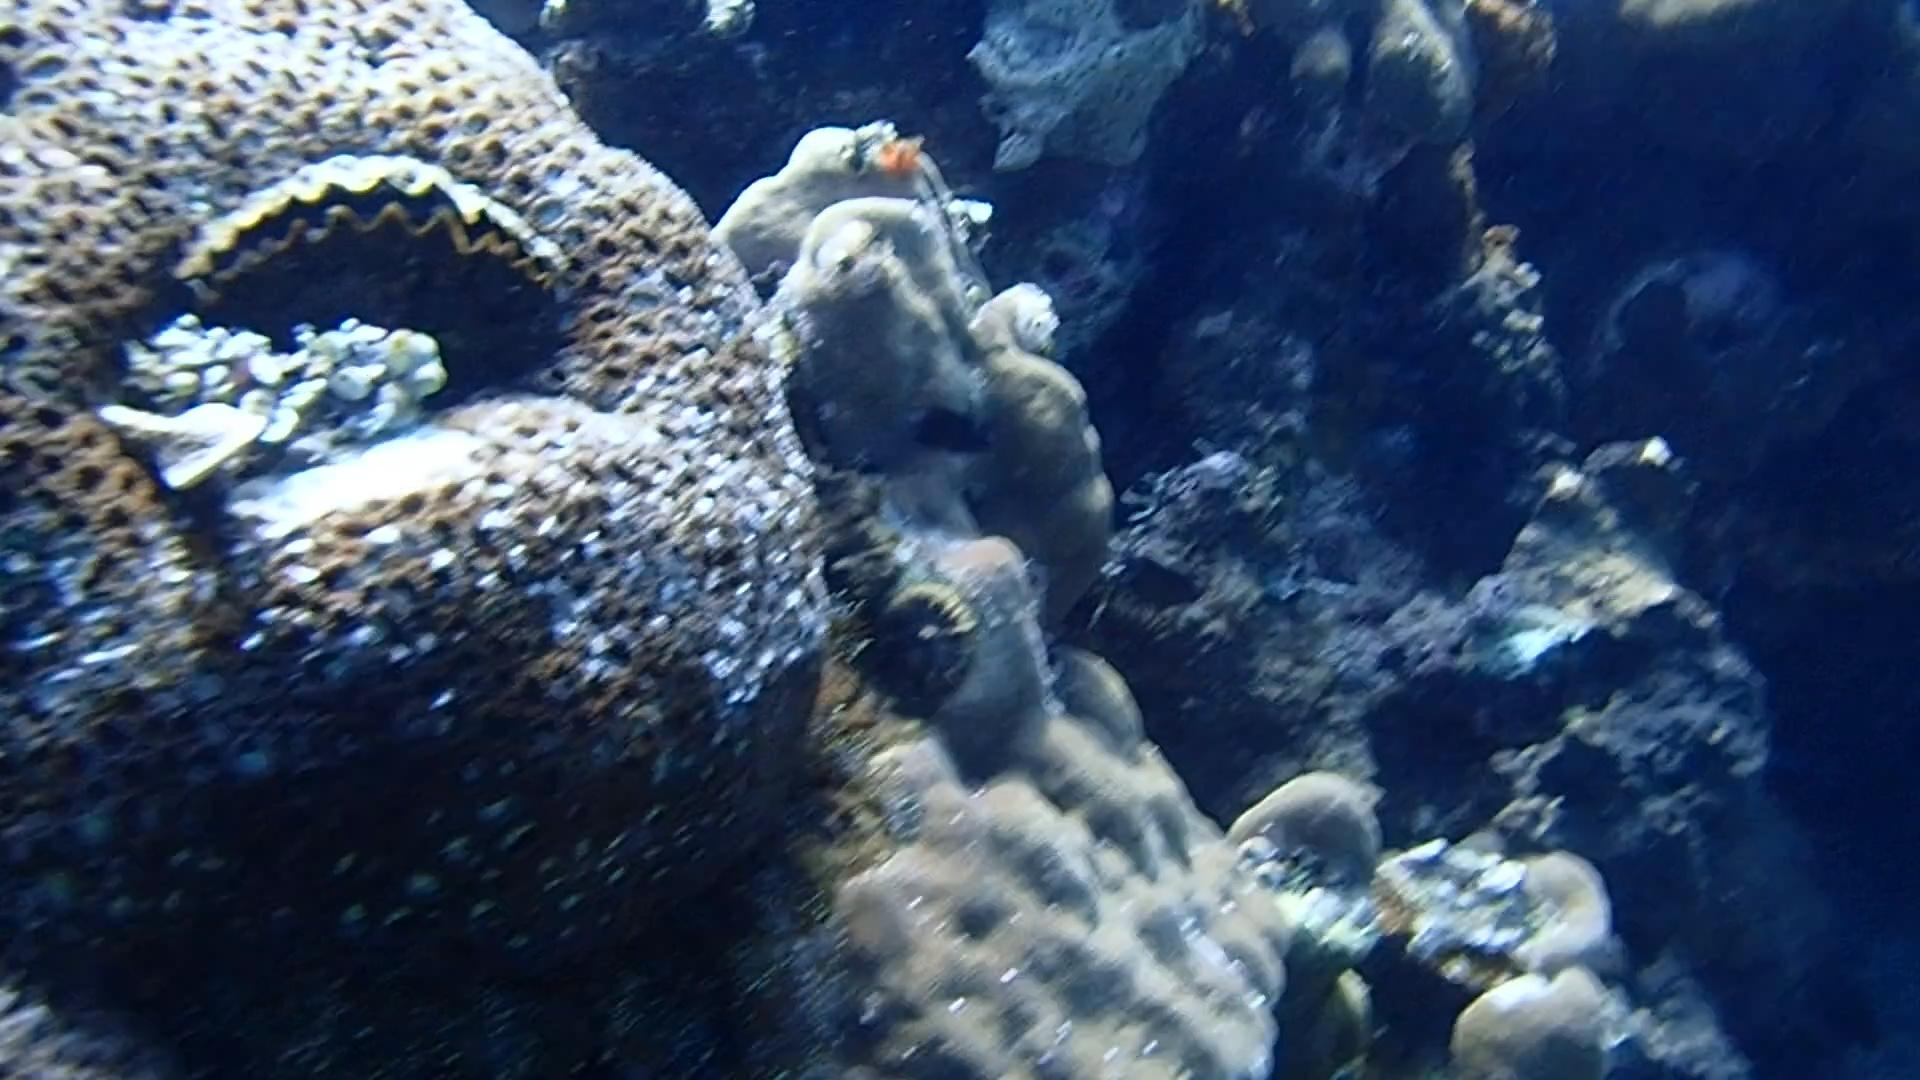Dark Fish: (1109, 538, 1215, 621), (891, 389, 1004, 467)
